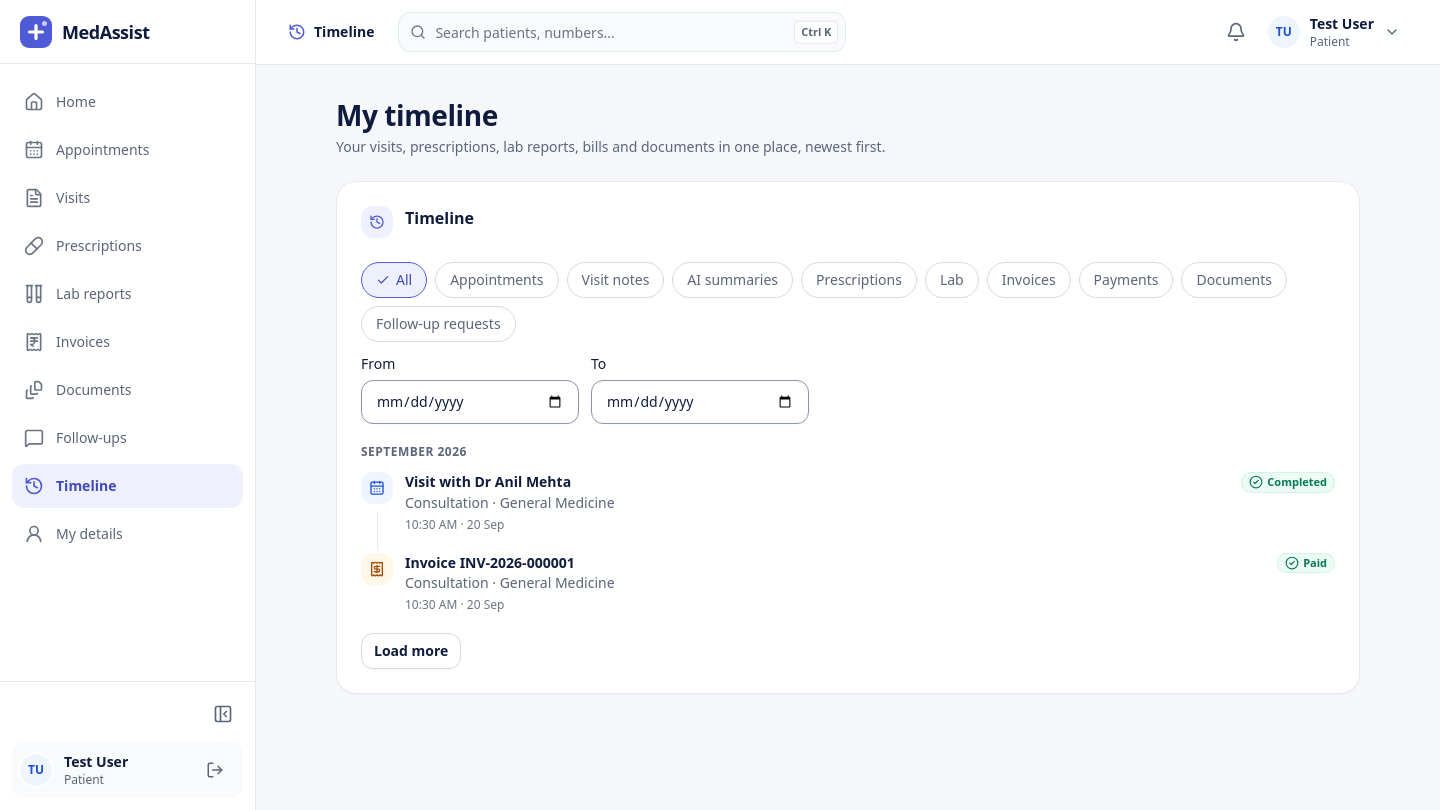
Scenario: Timeline › "Load more" appends the next cursor page without duplicates, grouped by month
The image size is (1440, 810).
Click the button "Load more" at (411, 651), box [361,633,461,669]
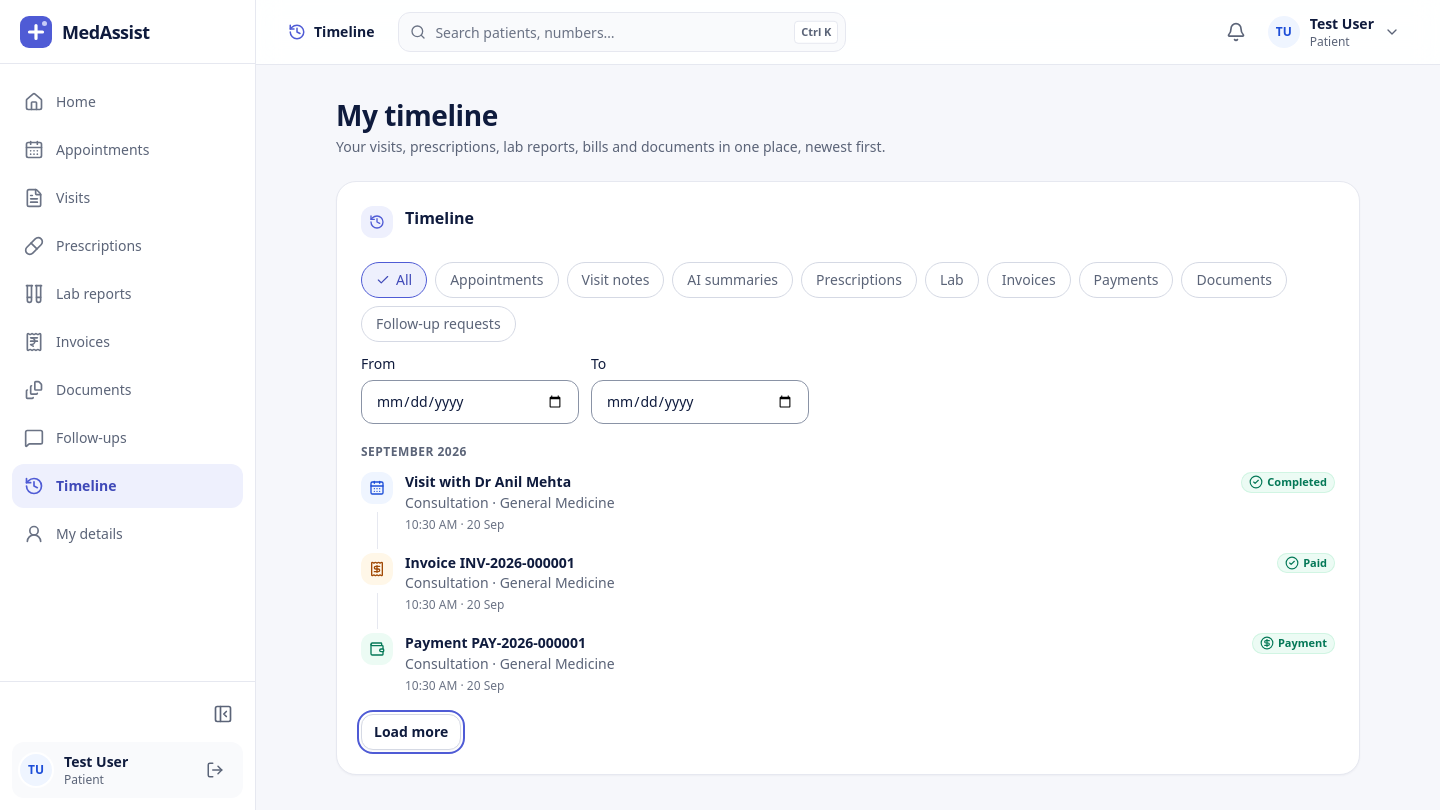
Click the button "Load more" at (411, 732), box [361,714,461,750]
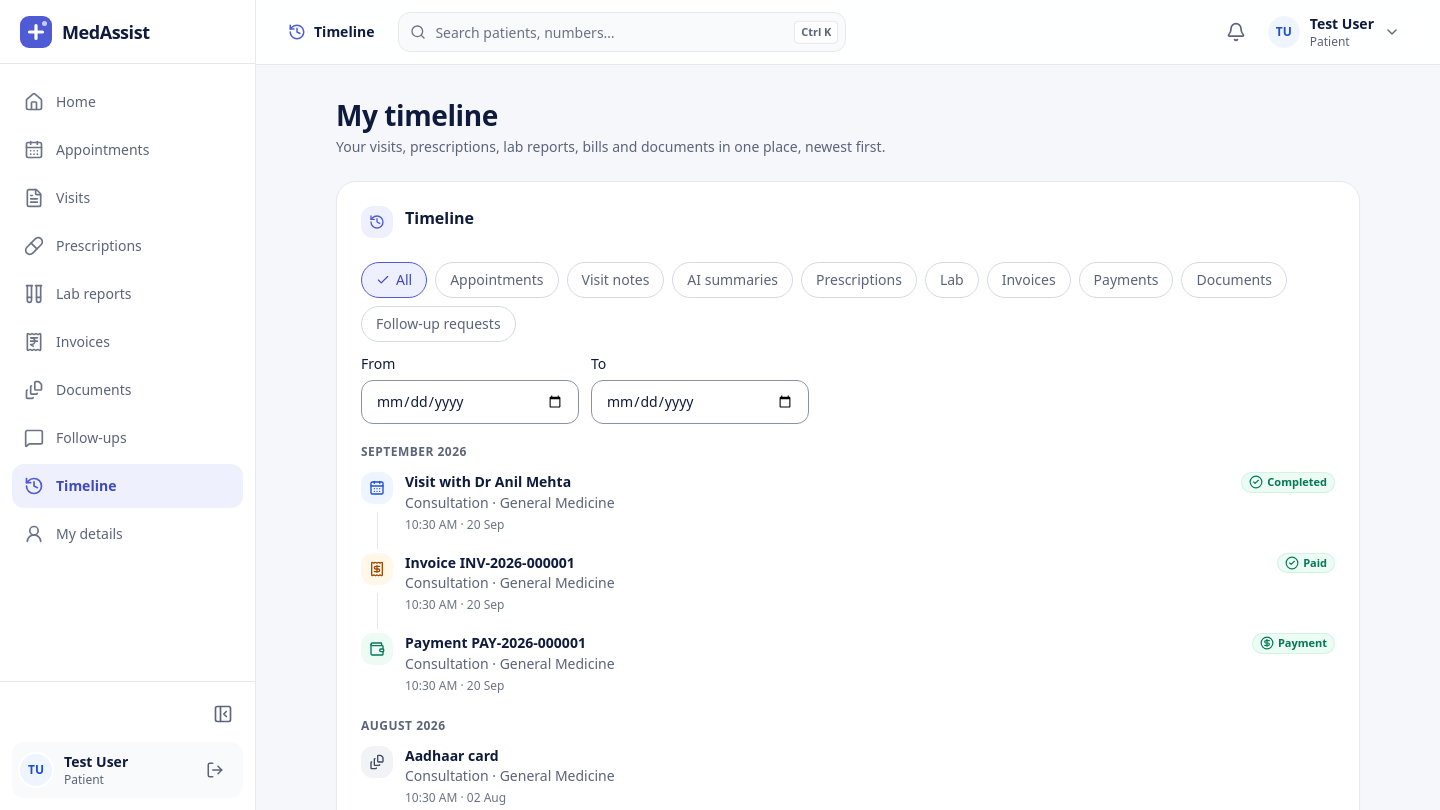
Expected: the number of links "Invoice INV-2026-000001" is 1, [405,552,575,572]
Expected: the button "Load more" is gone
Expected: the element "August 2026" is shown, [361,716,615,806]
